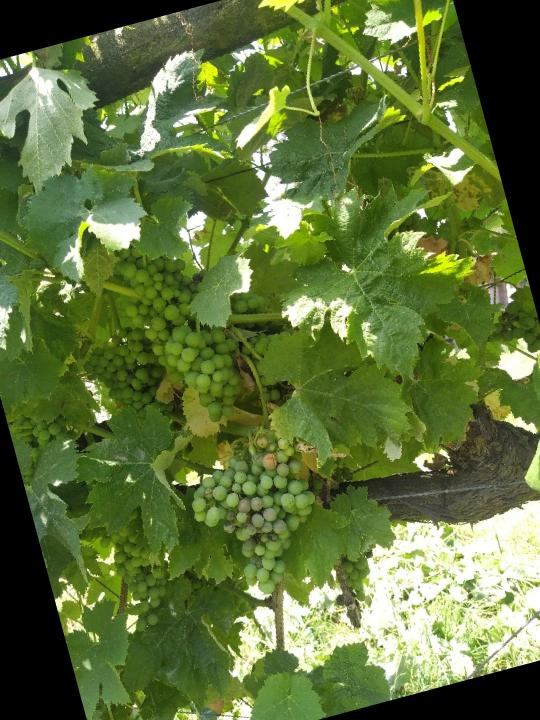grape: (173, 417, 349, 612), (111, 234, 260, 438)
